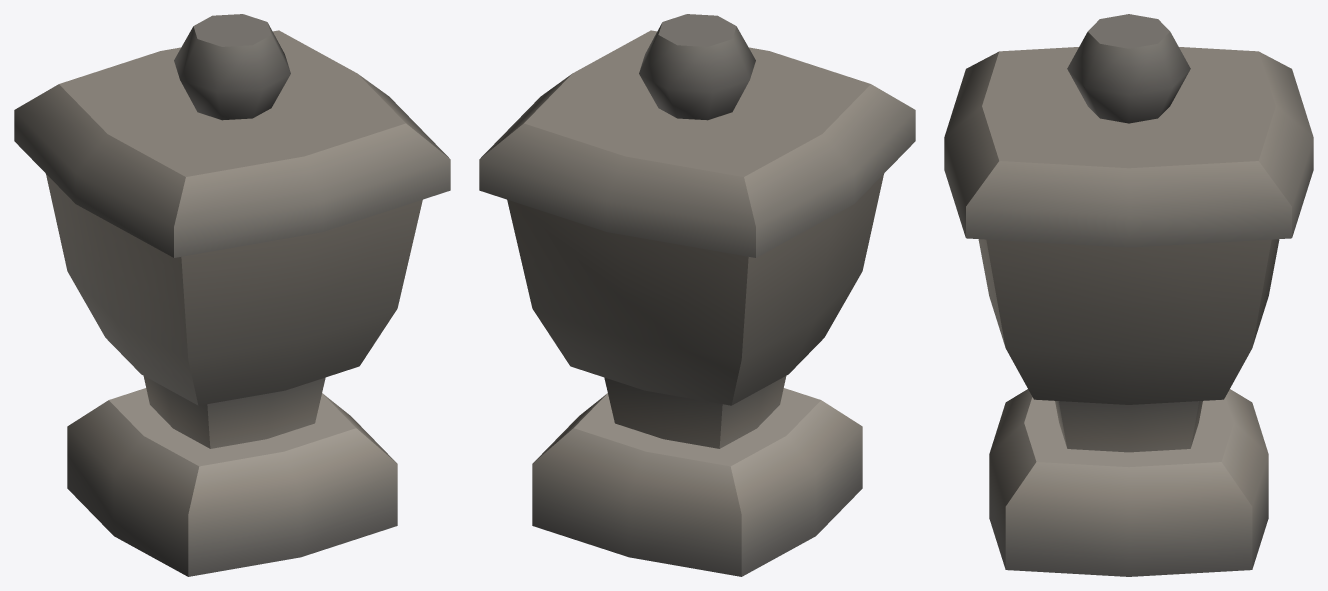
Rendered from urn-square.glb.
3 views of the same model, side by side, from view 1: azimuth 30°, elevation 25°; view 2: azimuth 150°, elevation 25°; view 3: azimuth 270°, elevation 25° (orthographic). The views are drawn at different scales.
Parts seen in each view (by area): view 1: urn-square, lid; view 2: urn-square, lid; view 3: urn-square, lid.
Part boxes in pixels (x1,y1,x2,y2): urn-square: [46, 174, 422, 576]; lid: [14, 14, 450, 257]; urn-square: [507, 174, 883, 576]; lid: [479, 14, 915, 257]; urn-square: [978, 239, 1279, 576]; lid: [944, 14, 1313, 247].
Bounding box in the file's own units: 0.2644 × 0.384 × 0.2644.
Materials: 1 (1 with a texture image).
